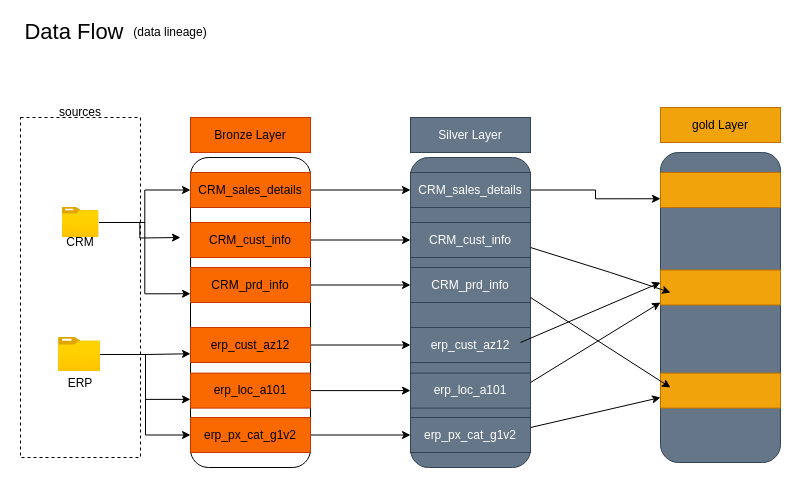
This 798x485 diagram has some shape labels left out. Here are the shapes that lost their labels. From the top down, the centre of each, then its label:
the point at 720,190: fact_sales
the point at 720,287: dm_customers
the point at 720,390: dm_products
